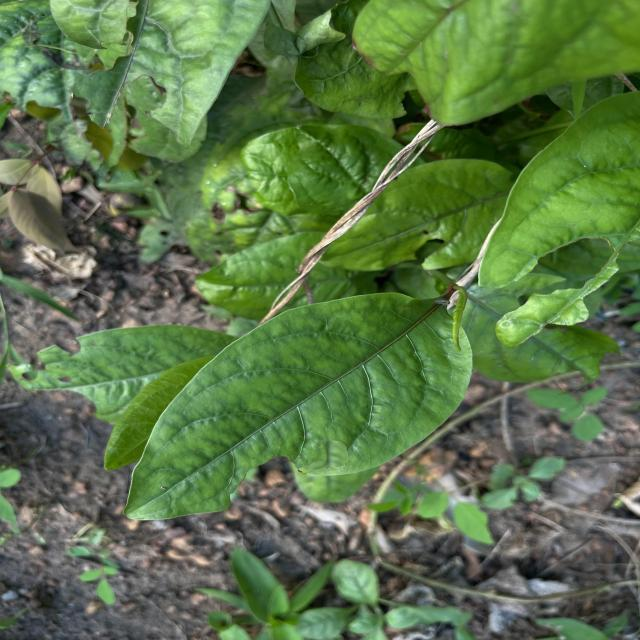Plumbago indica: (110, 278, 474, 527)
